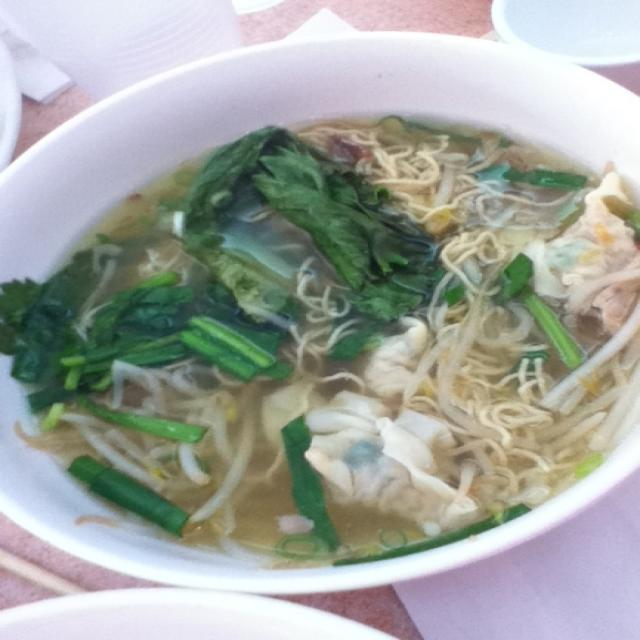汤锅炖物: (25, 71, 619, 568)
